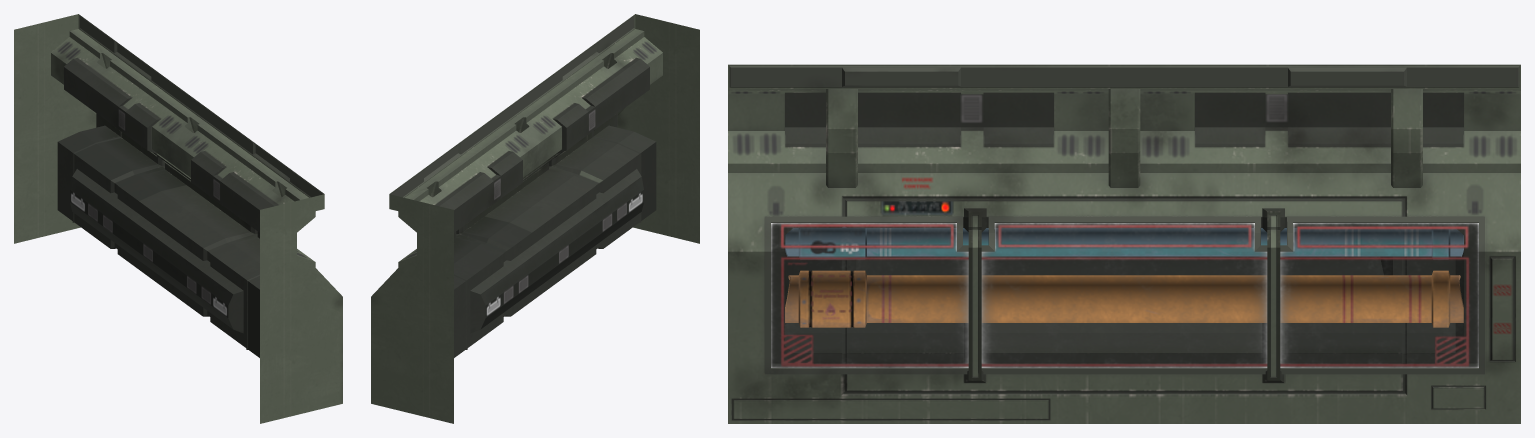
The model's file is wall_01.glb.
3 views of the same model, side by side, from view 1: azimuth 30°, elevation 25°; view 2: azimuth 150°, elevation 25°; view 3: azimuth 270°, elevation 25° (orthographic). The views are drawn at different scales.
Parts seen in each view (by area): view 1: Wall_01; view 2: Wall_01; view 3: Wall_01.
Boxes of the visible parts, box(x1,y1,x2,y2) form: Wall_01: box(14, 14, 342, 423); Wall_01: box(371, 14, 699, 423); Wall_01: box(728, 64, 1520, 423).
Bounding box in the file's own units: 517 × 1200 × 2500.
Materials: 1 (1 with a texture image).
